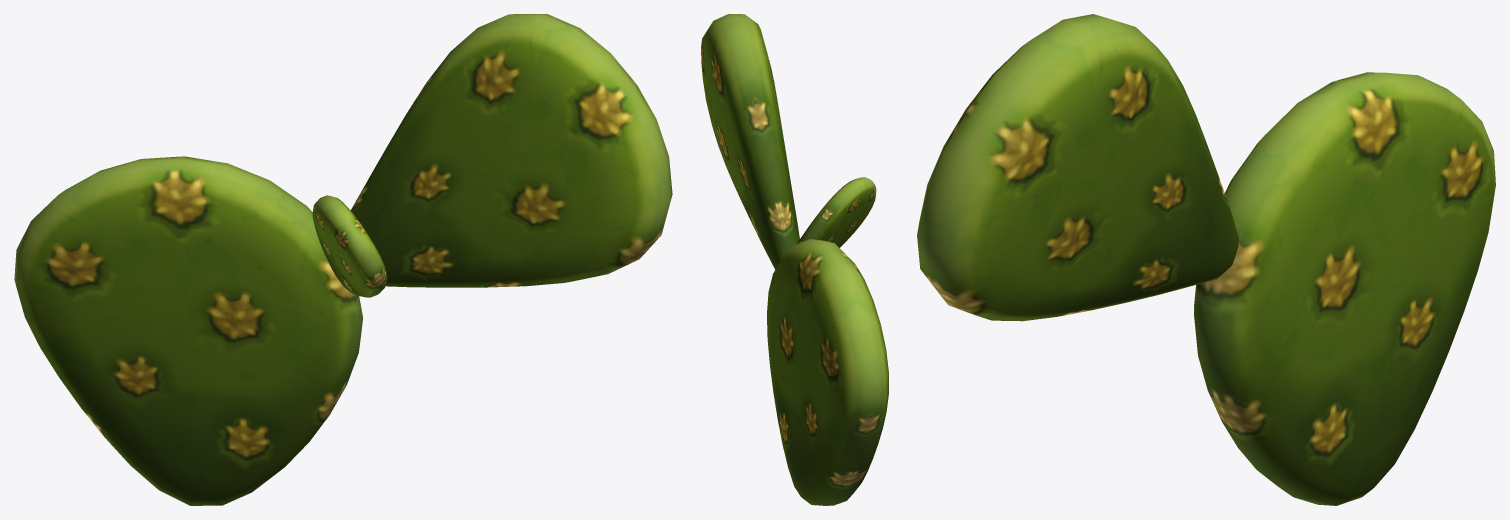
The model's file is DE_Cactus_18.fbx.
3 renders of one model, left to right at view 1: azimuth 30°, elevation 25°; view 2: azimuth 150°, elevation 25°; view 3: azimuth 270°, elevation 25°, orthographic. The views are drawn at different scales.
Visible parts, largest first — view 1: DE_Cactus_18; view 2: DE_Cactus_18; view 3: DE_Cactus_18.
Part boxes in pixels (x1=…): DE_Cactus_18: x1=14, y1=14, x2=672, y2=505; DE_Cactus_18: x1=701, y1=14, x2=888, y2=505; DE_Cactus_18: x1=917, y1=14, x2=1495, y2=505.
Bounding box in the file's own units: 2.15 × 2.37 × 2.05.
